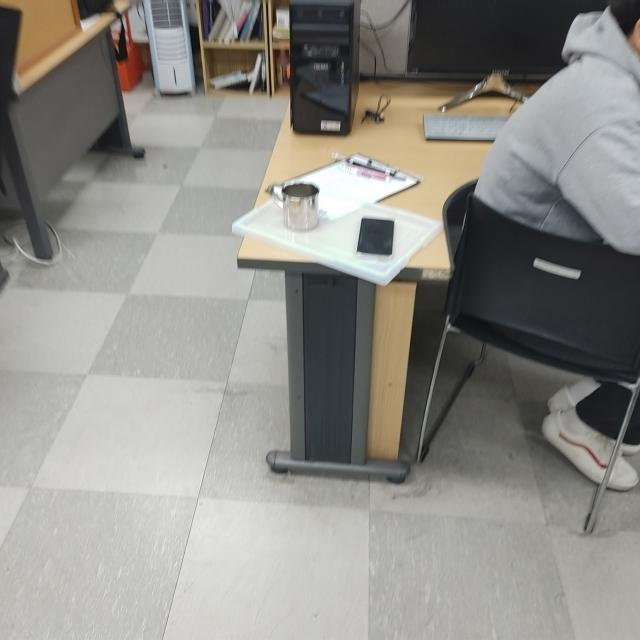cup: (264, 179, 321, 235)
phone: (354, 215, 396, 258)
